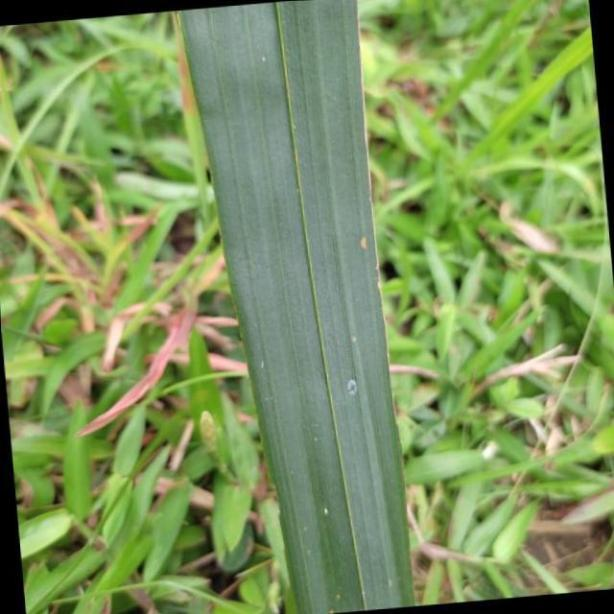Boron: (172, 0, 416, 614)
